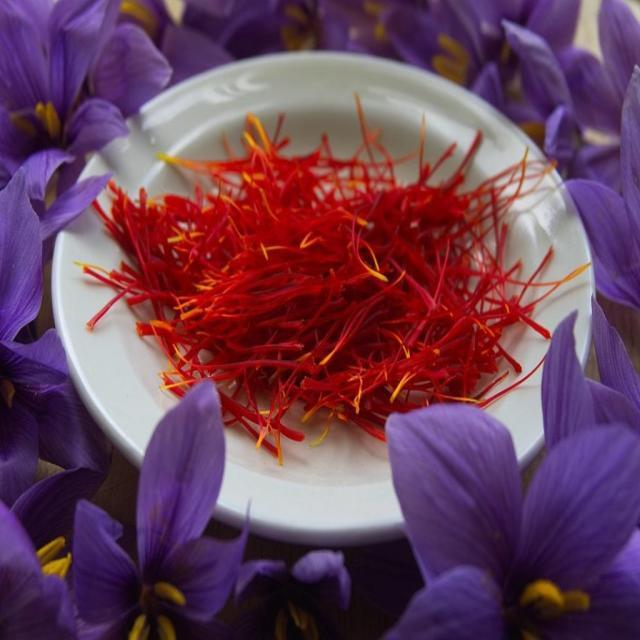Flower: (382, 399, 640, 640), (49, 379, 230, 640), (0, 0, 152, 196), (552, 56, 640, 358)
